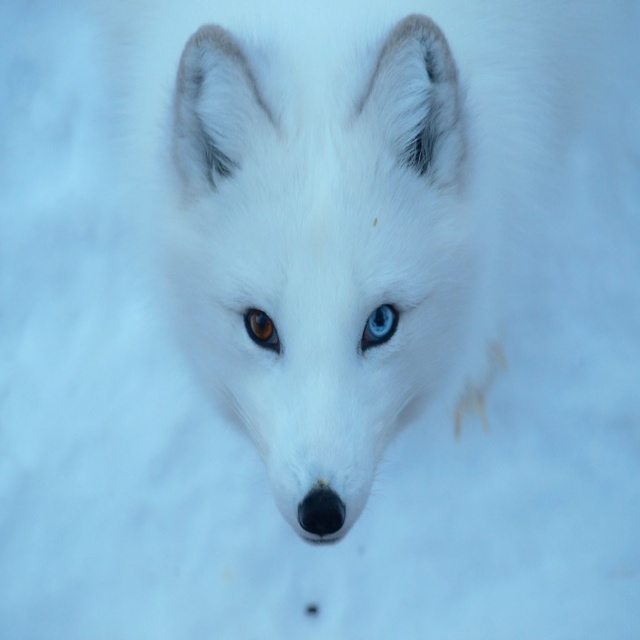Fox: (99, 0, 585, 551)
